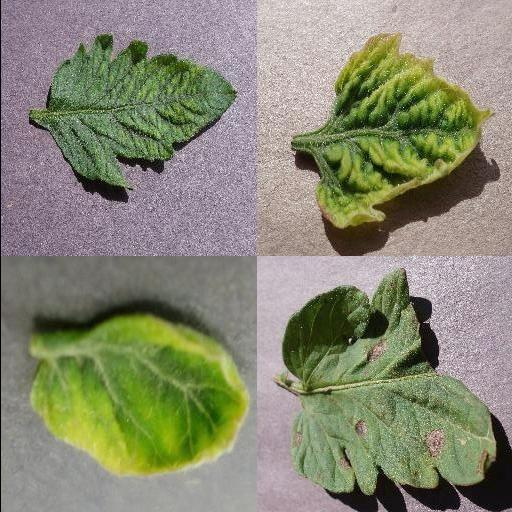Early Blight: (279, 270, 497, 494)
Mosaic Virus: (44, 31, 236, 191)
Yellow Leaf Curl Virus: (26, 313, 248, 478), (314, 34, 494, 228)
